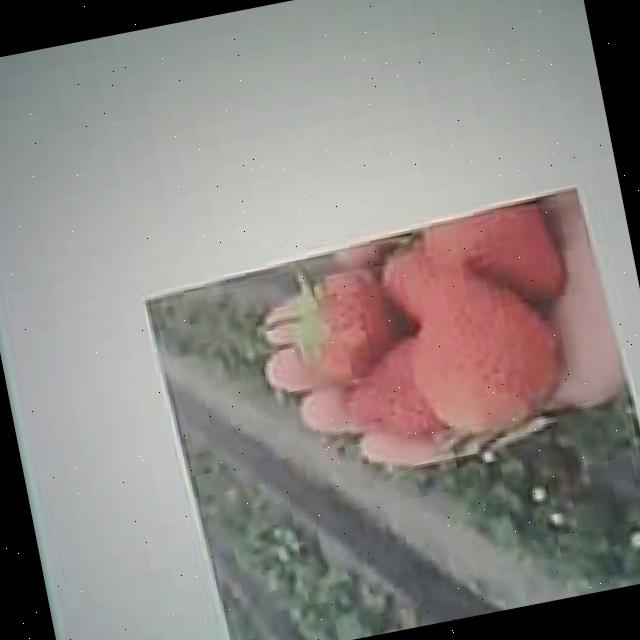strawberry: (402, 260, 568, 441)
